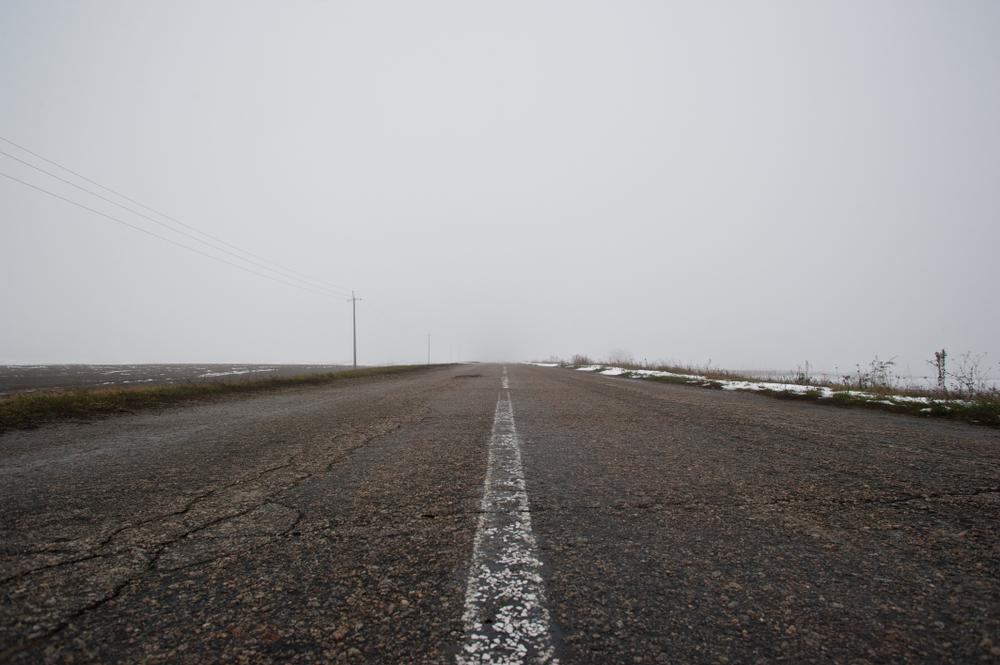faded_road_lines: (445, 351, 588, 665)
